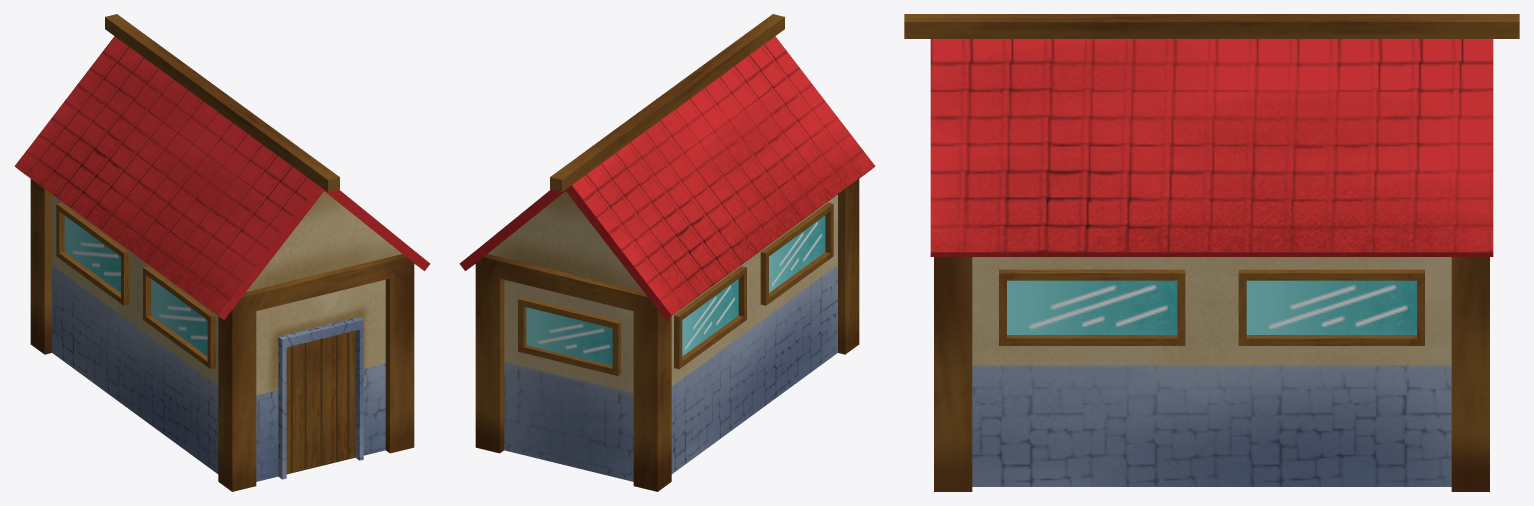
Rendered from Workers' House Lvl 1.fbx.
3 renders of one model, left to right at view 1: azimuth 30°, elevation 25°; view 2: azimuth 150°, elevation 25°; view 3: azimuth 270°, elevation 25°, orthographic. The views are drawn at different scales.
Parts seen in each view (by area): view 1: Workers' House Lvl 1; view 2: Workers' House Lvl 1; view 3: Workers' House Lvl 1.
Boxes of the visible parts, x1,y1,x2,y2 form: Workers' House Lvl 1: (14,14,430,491); Workers' House Lvl 1: (459,14,875,491); Workers' House Lvl 1: (904,14,1519,491).
Size of the model in its own units: 462 by 342 by 254.
